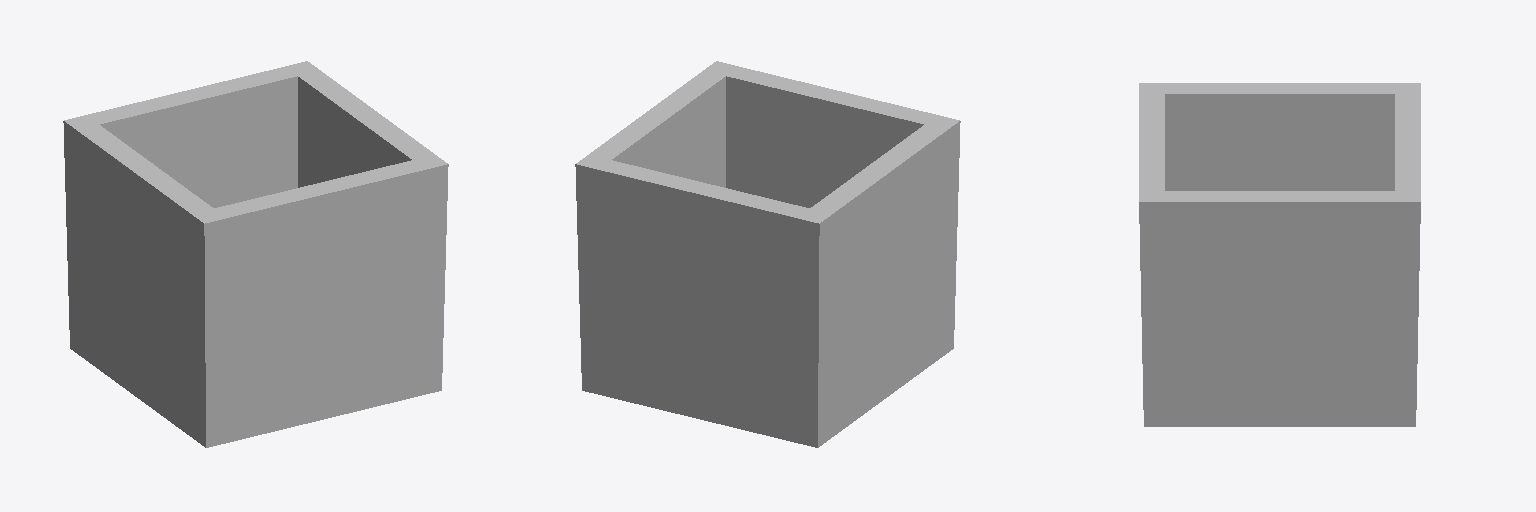
Rendered from hollowCube.obj.
The picture shows the model from 3 angles: view 1: azimuth 30°, elevation 25°; view 2: azimuth 150°, elevation 25°; view 3: azimuth 270°, elevation 25°; orthographic projection.
Parts seen in each view (by area): view 1: Cube; view 2: Cube; view 3: Cube.
Boxes of the visible parts, x1=… form: Cube: x1=63, y1=61, x2=448, y2=447; Cube: x1=575, y1=61, x2=960, y2=447; Cube: x1=1139, y1=83, x2=1420, y2=426.
Bounding box in the file's own units: 4.92 × 4.38 × 4.92.